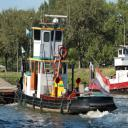tugboat: (15, 14, 119, 118)
